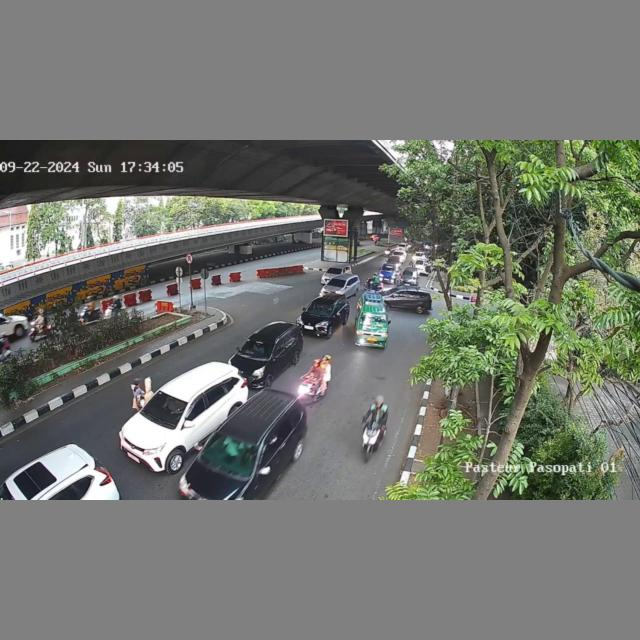windshield: (202, 432, 262, 477), (142, 390, 191, 424), (236, 337, 276, 361), (305, 301, 333, 317), (326, 278, 347, 287)
